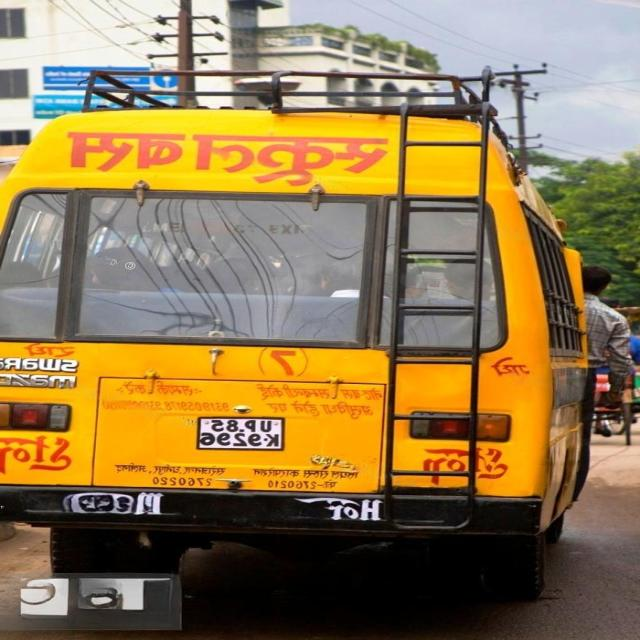bus: (1, 70, 586, 598)
